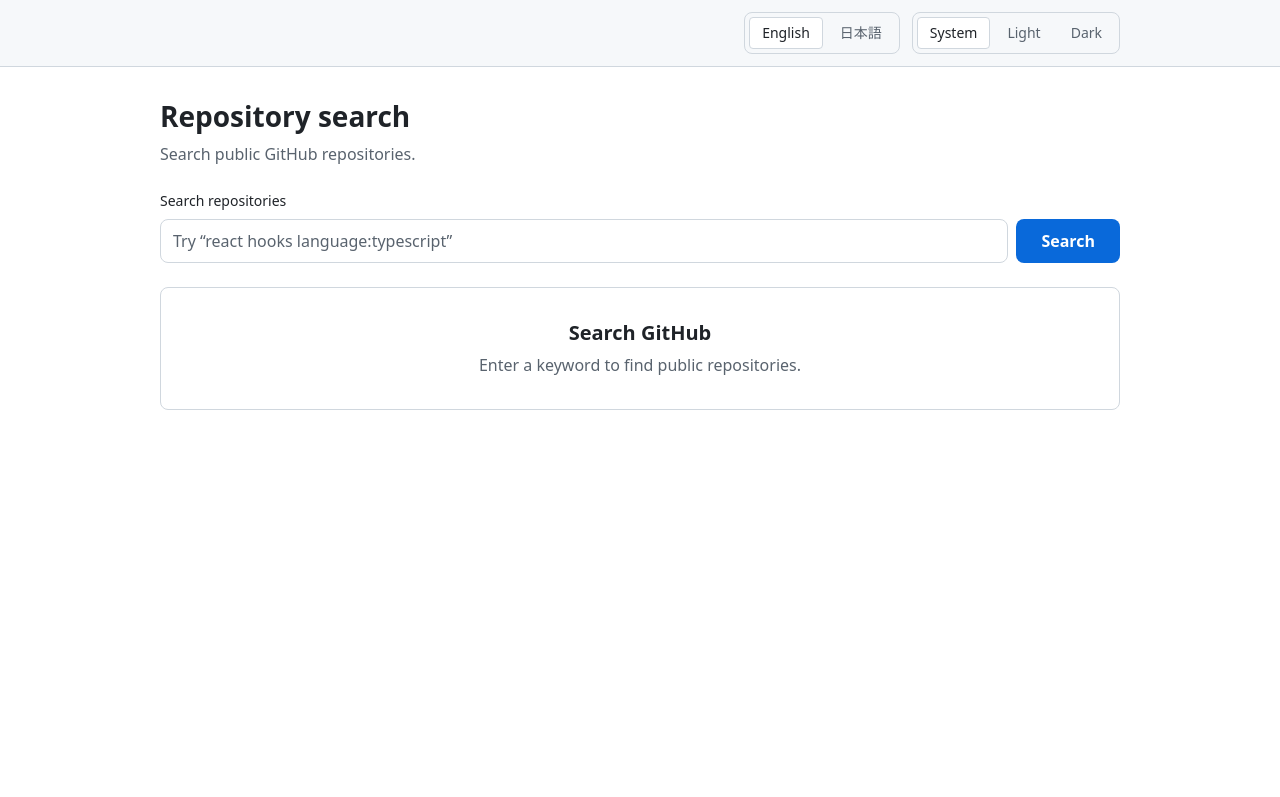
it: App search flow › reports a network failure, and Try again recovers
Type "react" into the search field labelled "Search repositories". click: (584, 241)
box: [160,219,1008,263]
Then press Enter
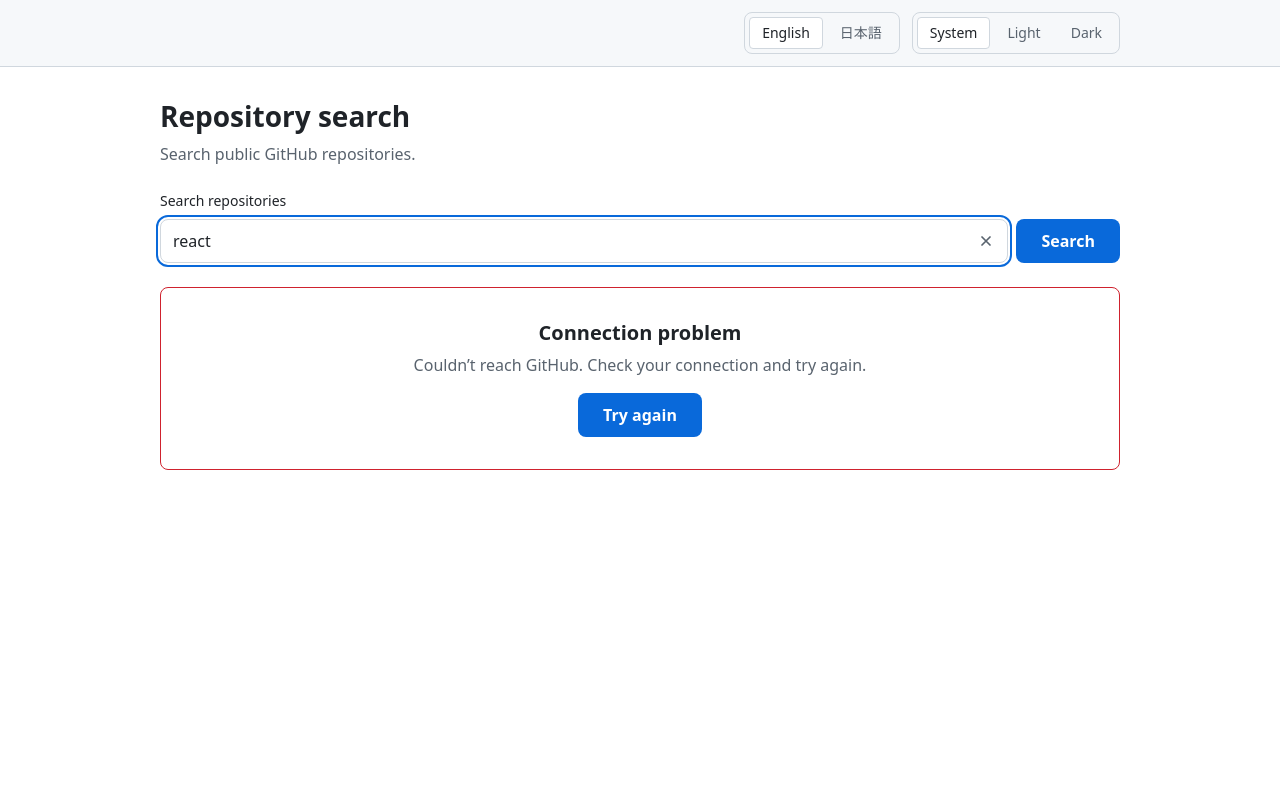
Expected: the heading "Connection problem" is shown, [538,320,742,345]
Click the button "Try again". click: click(640, 415)
box: [578,393,702,437]
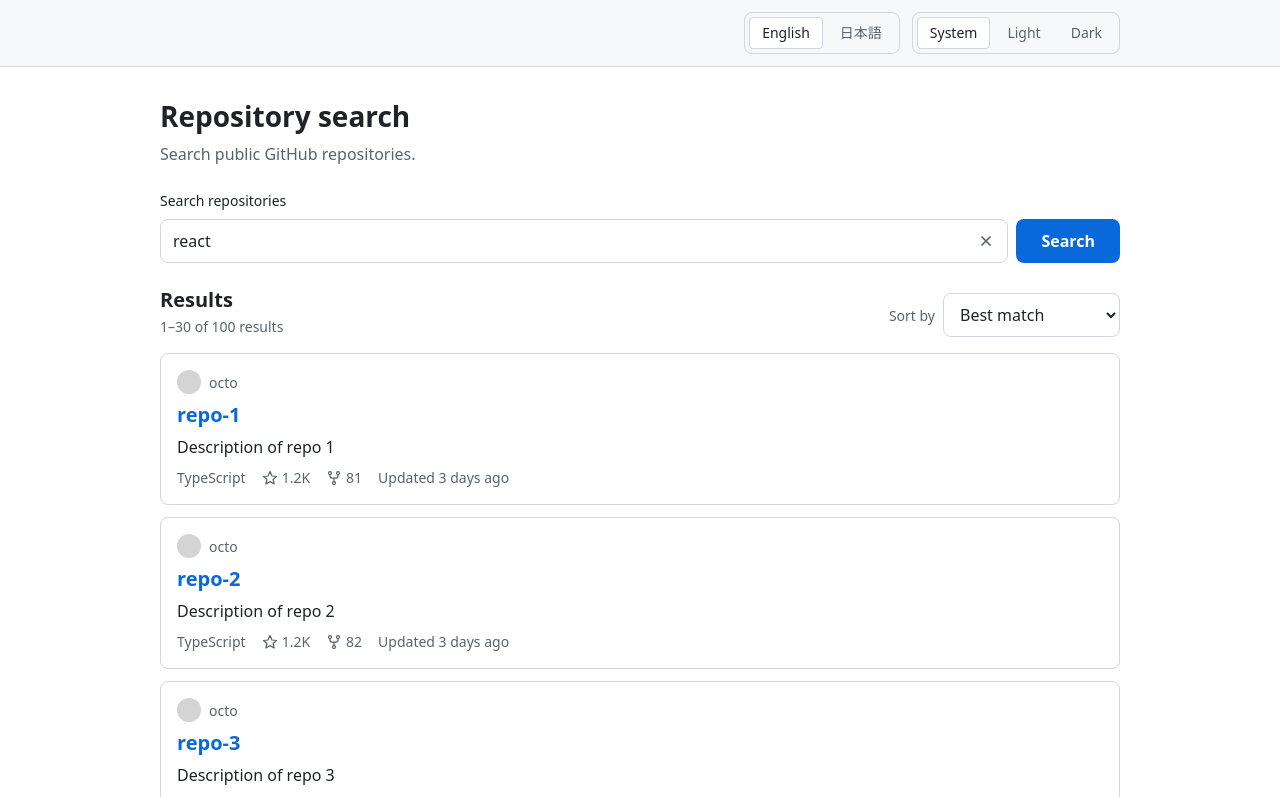
Expected: the link "repo-1" is shown, [177,401,240,428]
